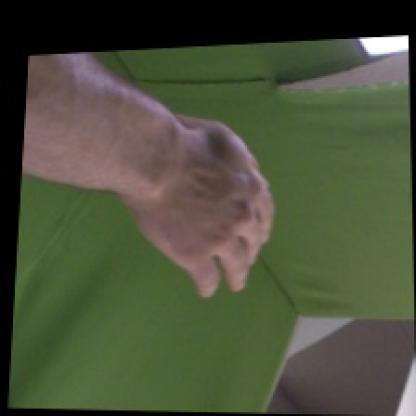Hand: (132, 114, 274, 296)
